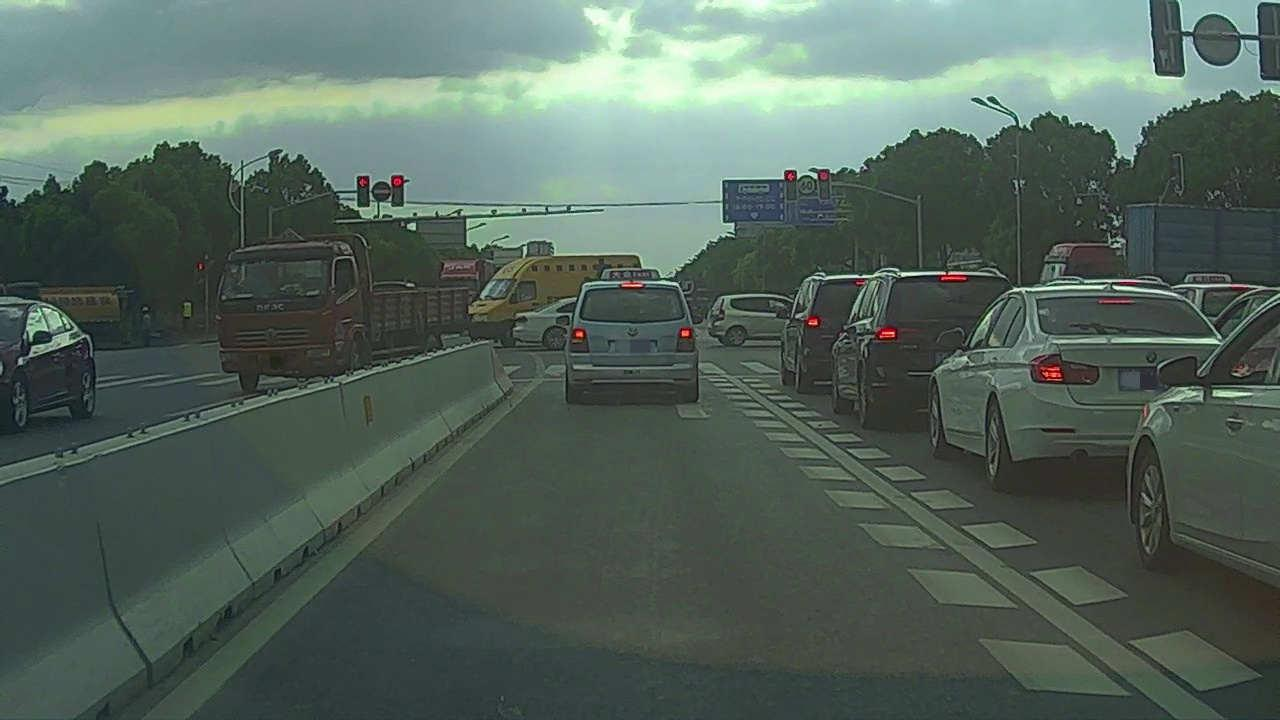traffic_light: (391, 174, 404, 207), (357, 176, 370, 207), (818, 169, 831, 200), (785, 169, 796, 200)
